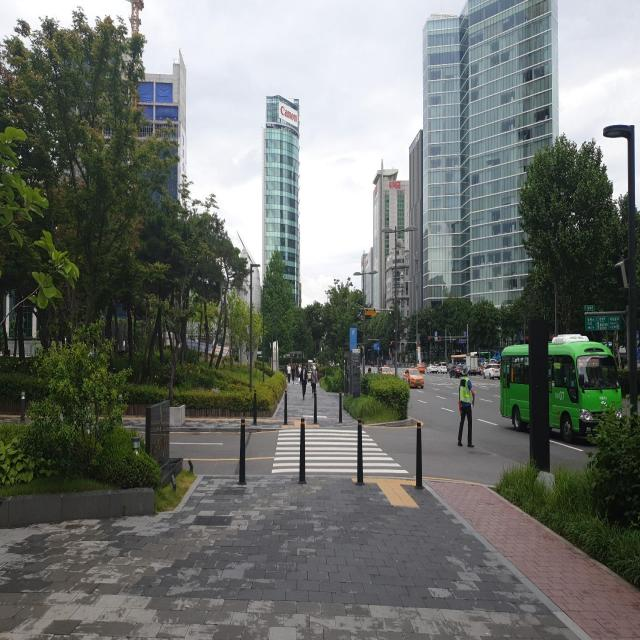횡단보도: (271, 428, 410, 476)
